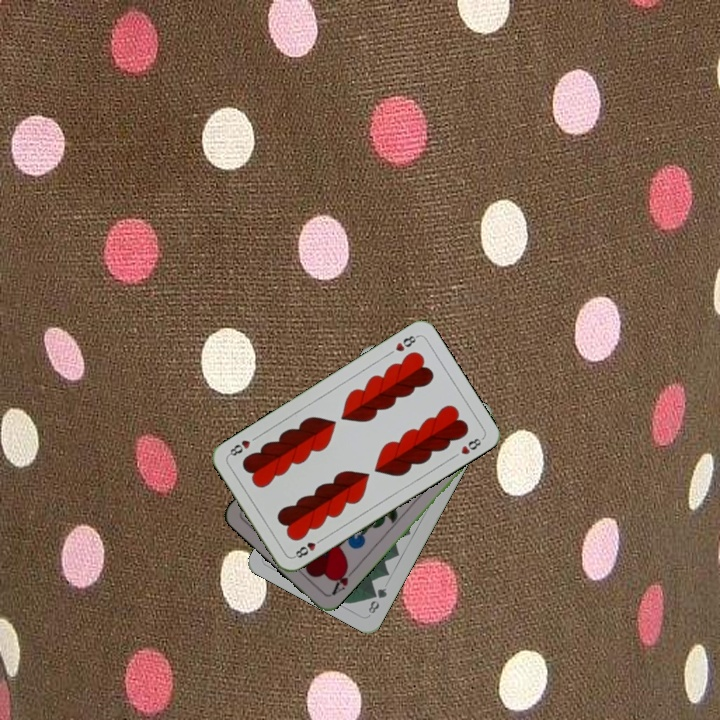G8: (364, 584, 390, 616)
H8: (289, 534, 326, 561), (391, 331, 421, 354)
HA: (328, 561, 358, 598)
